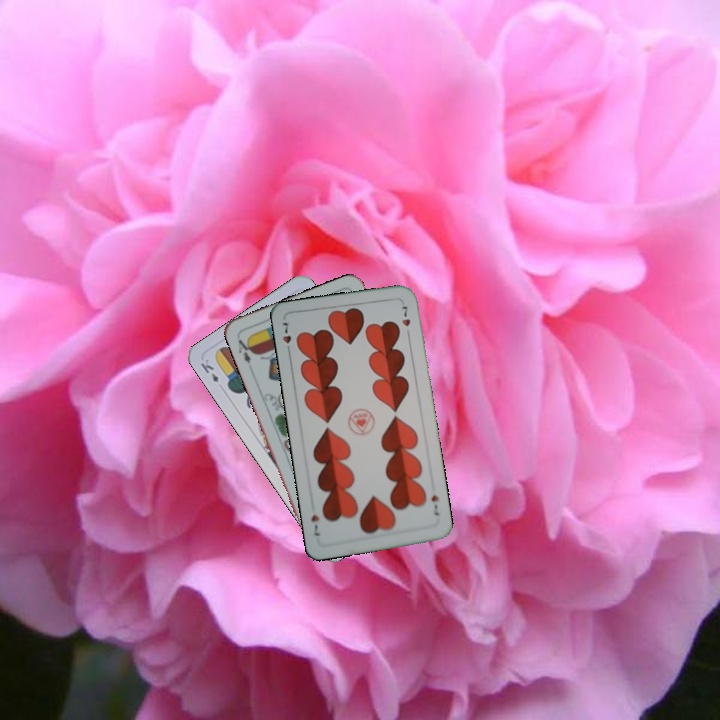EA: (234, 335, 257, 366)
EK: (196, 355, 221, 385)
H7: (278, 318, 294, 357), (427, 491, 441, 518)
